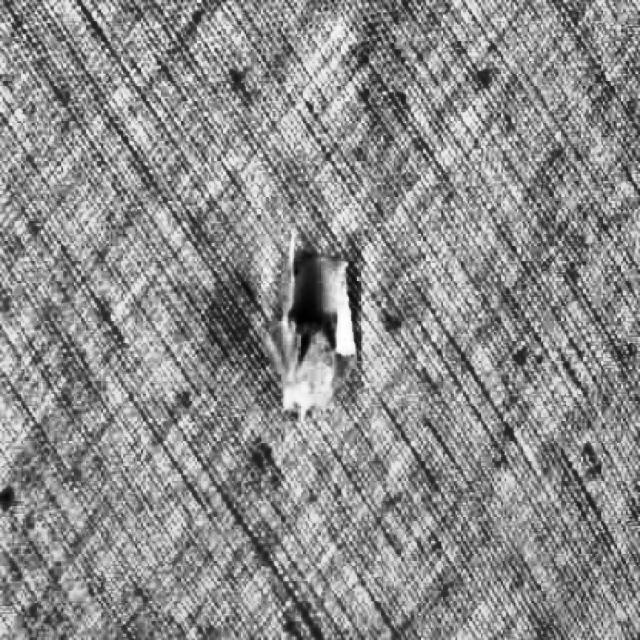objects: (254, 223, 382, 422)
